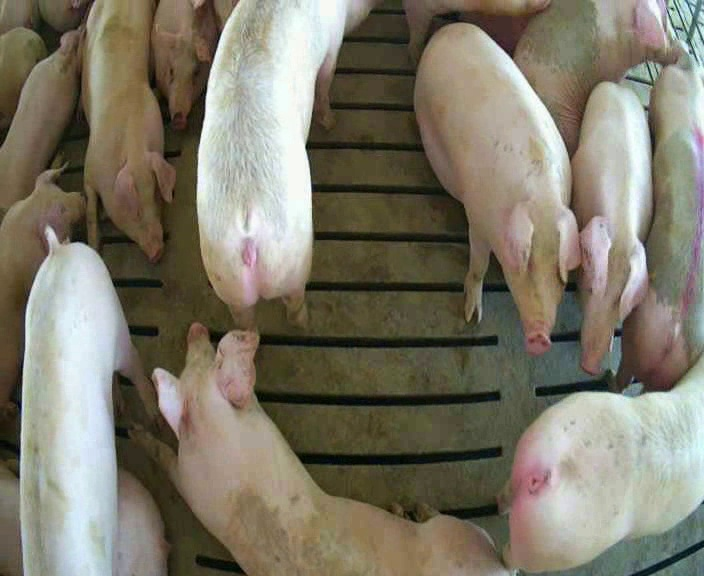pig: (129, 323, 507, 573), (197, 2, 371, 329), (414, 23, 579, 354), (496, 354, 703, 571), (619, 39, 703, 389), (514, 2, 675, 154), (82, 2, 174, 260), (571, 82, 651, 374), (0, 149, 84, 405), (0, 29, 81, 212), (151, 1, 218, 128), (0, 27, 46, 139)
